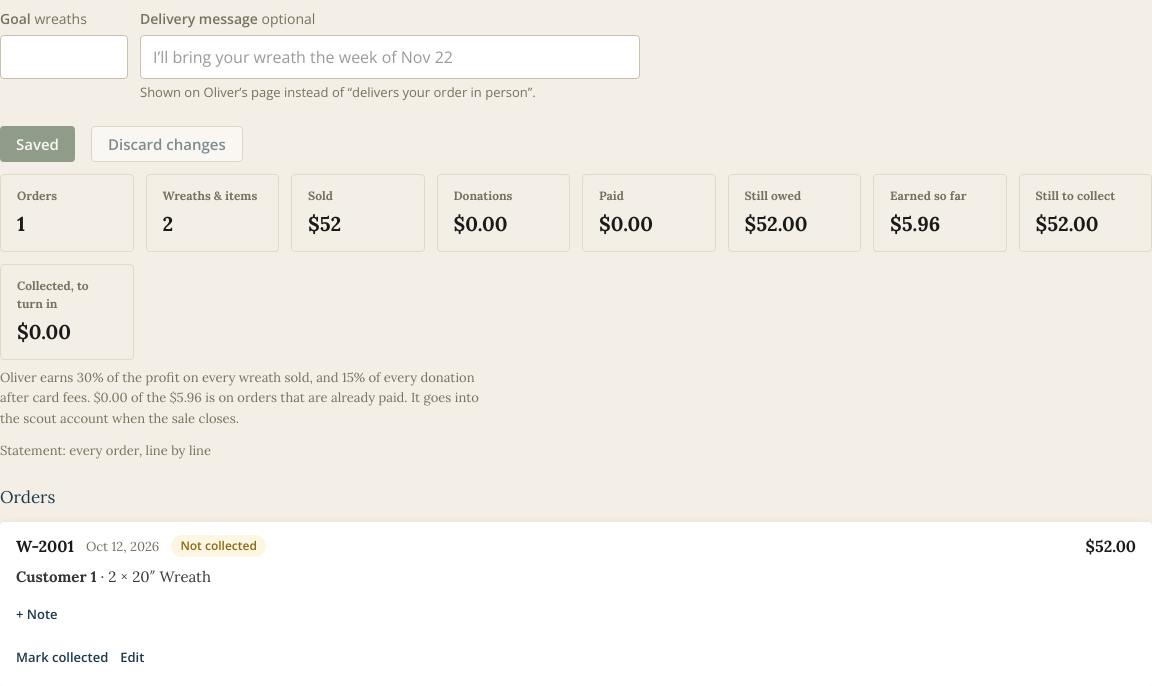
Test case: Members › Wreath sale › the open editor › MemberWreaths_Save_SaysSaveChangesAndIsEnabled_OnceTheDraftChanges
Click the button "Edit" at (132, 658), box [120, 640, 144, 676]
(page scrolled)
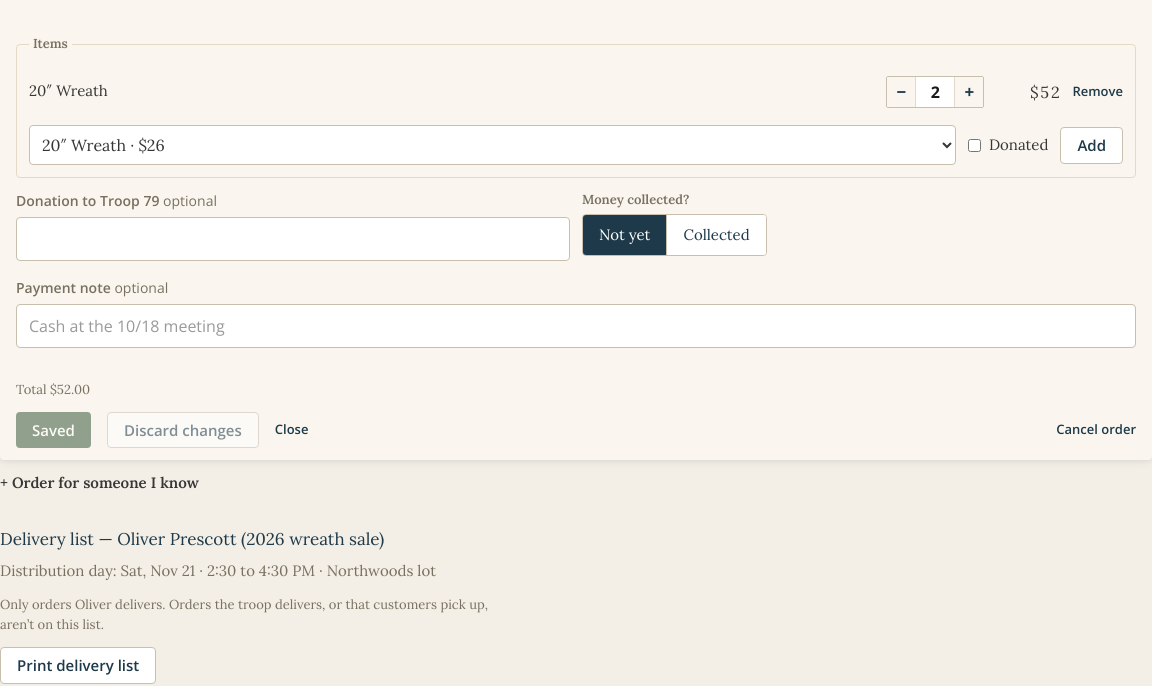
Type "Venmo 10/20" into the field labelled "Payment note optional" at (576, 326), box [16, 304, 1136, 348]
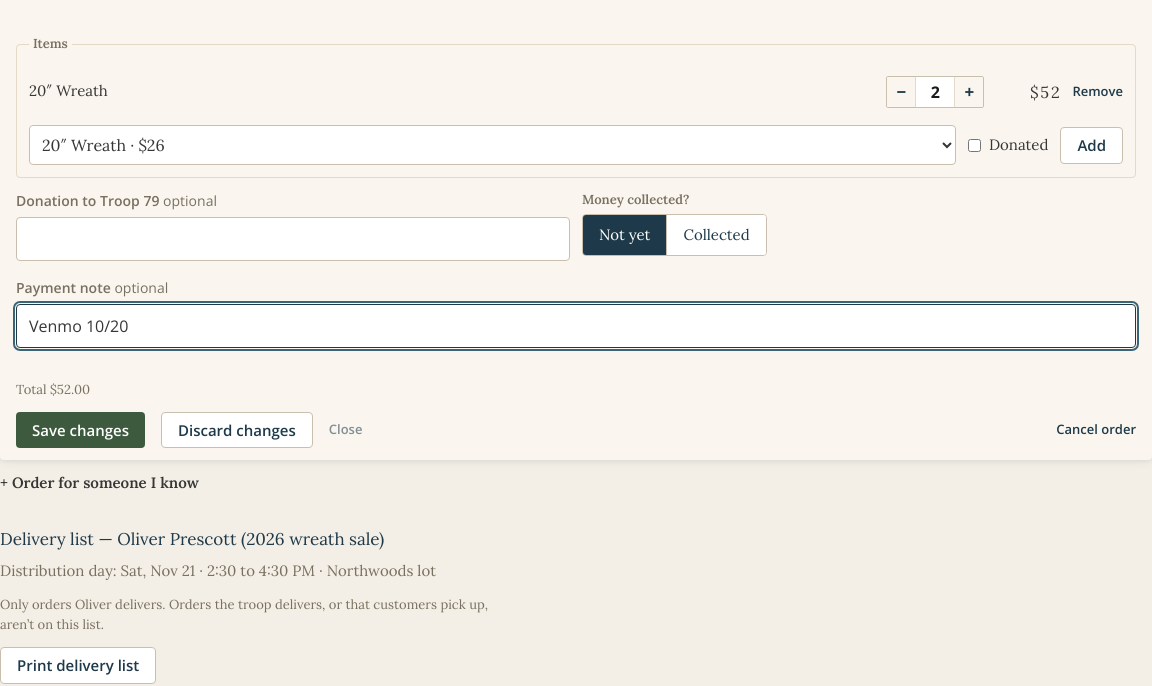
Expected: the button "Save changes" is enabled, [16, 412, 145, 448]
